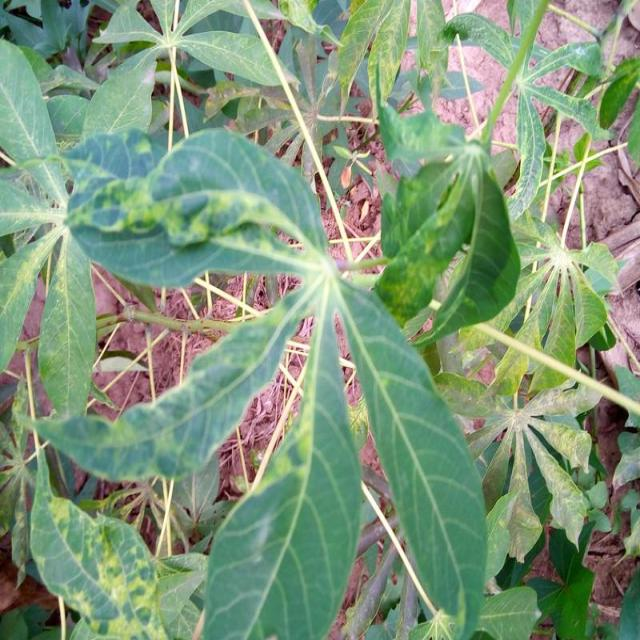cassava leaf: (28, 123, 490, 638), (334, 275, 488, 638)
